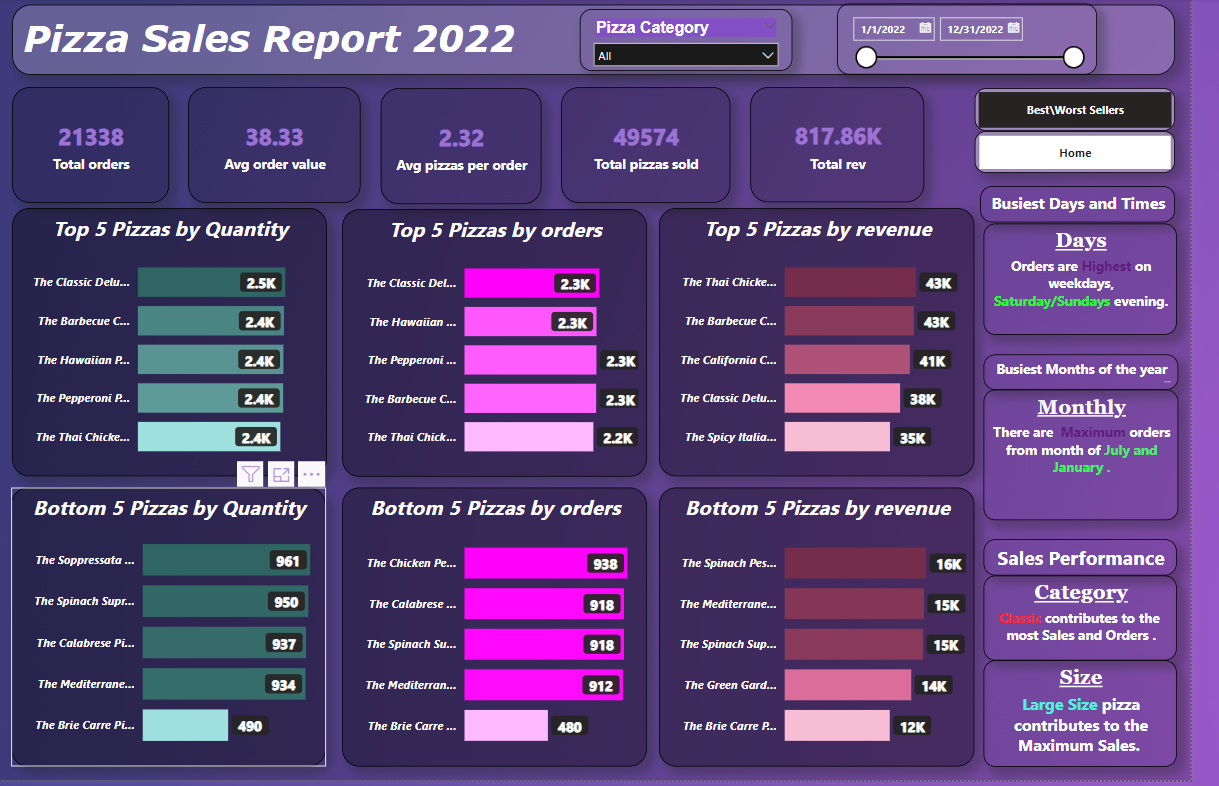

Layout of this report page (visuals, bound fields, positions):
{"tool":"powerbi","page":{"name":"Best\\Worst Sellers","canvas":[1400,920],"ordinal":1},"visuals":[{"type":"card","fields":{"Values":["pizza_sales_excel_file.avg pizzas per order"]},"box":[448.6,106.4,188.8,136.2],"z":0},{"type":"card","fields":{"Values":["pizza_sales_excel_file.total orders"]},"box":[14.9,105.3,184.3,136.2],"z":1000},{"type":"card","fields":{"Values":["pizza_sales_excel_file.Total rev"]},"box":[883.6,105.3,204.9,135.1],"z":2000},{"type":"card","fields":{"Values":["pizza_sales_excel_file.total pizzas sold"]},"box":[661.5,104.2,199.1,136.2],"z":3000},{"type":"card","fields":{"Values":["pizza_sales_excel_file.Avg order value"]},"box":[222,105.3,202.6,136.2],"z":4000},{"type":"textbox","box":[15.5,7.8,1367.3,82.8],"z":5000},{"type":"textbox","title":"Busiest Days and Times","box":[1153.9,221.2,229,42.7],"z":6000},{"type":"textbox","title":"Days ","box":[1157.7,265.2,227.7,130.6],"z":7000},{"type":"textbox","title":"Monthly","box":[1157.7,460.5,229,153.9],"z":8000},{"type":"textbox","title":"Busiest Months of the year","box":[1157.7,419.1,229,41.4],"z":9000},{"type":"textbox","title":"Sales Performance","box":[1157.7,636.4,227.7,42.7],"z":10000},{"type":"textbox","title":"Category","box":[1157.7,679.1,227.7,99.6],"z":11000},{"type":"textbox","title":"Size","box":[1157.7,778.7,227.7,125.5],"z":12000},{"type":"slicer","fields":{"Values":["pizza_sales_excel_file.pizza_category"]},"box":[682.9,12.7,249.9,72.5],"z":13000},{"type":"slicer","fields":{"Values":["pizza_sales_excel_file.order_date"]},"box":[985.7,6.5,305.3,84.1],"z":14000},{"type":"barChart","title":"Top 5 Pizzas by revenue","fields":{"Y":["pizza_sales_excel_file.Total rev"],"Category":["pizza_sales_excel_file.pizza_name"]},"box":[776.1,247.1,371.3,315.6],"z":15000},{"type":"barChart","title":"Bottom 5 Pizzas by revenue","fields":{"Y":["pizza_sales_excel_file.Total rev"],"Category":["pizza_sales_excel_file.pizza_name"]},"box":[776.1,575.6,371.3,328.6],"z":16000},{"type":"barChart","title":"Top 5 Pizzas by Quantity","fields":{"Category":["pizza_sales_excel_file.pizza_name"],"Y":["pizza_sales_excel_file.total pizzas sold"]},"box":[15.5,247.1,370,315.6],"z":17000},{"type":"barChart","title":"Bottom 5 Pizzas by Quantity","fields":{"Category":["pizza_sales_excel_file.pizza_name"],"Y":["pizza_sales_excel_file.total pizzas sold"]},"box":[14.2,575.6,370,328.6],"z":18000},{"type":"barChart","title":"Bottom  5 Pizzas by orders","fields":{"Category":["pizza_sales_excel_file.pizza_name"],"Y":["pizza_sales_excel_file.total orders"]},"box":[403.6,575.6,358.3,328.6],"z":19000},{"type":"barChart","title":"Top 5 Pizzas by orders","fields":{"Category":["pizza_sales_excel_file.pizza_name"],"Y":["pizza_sales_excel_file.total orders"]},"box":[403.6,248.4,358.3,314.3],"z":20000},{"type":"pageNavigator","box":[1147.4,106.1,235.4,50.4],"z":20001},{"type":"pageNavigator","box":[1147.4,156.5,235.4,49.2],"z":20002}]}

Visuals, with their boxes in screenshot pixels (x1, y1, x2, y2), scaled from the page's 1400x920 canvas onto the 1219x786 screenshot:
card - pizza_sales_excel_file.avg pizzas per order: <box>391,91,555,207</box>
card - pizza_sales_excel_file.total orders: <box>13,90,173,206</box>
card - pizza_sales_excel_file.Total rev: <box>769,90,948,205</box>
card - pizza_sales_excel_file.total pizzas sold: <box>576,89,749,205</box>
card - pizza_sales_excel_file.Avg order value: <box>193,90,370,206</box>
textbox: <box>13,7,1204,77</box>
"Busiest Days and Times" textbox: <box>1005,189,1204,225</box>
"Days " textbox: <box>1008,227,1206,338</box>
"Monthly" textbox: <box>1008,393,1207,525</box>
"Busiest Months of the year" textbox: <box>1008,358,1207,393</box>
"Sales Performance" textbox: <box>1008,544,1206,580</box>
"Category" textbox: <box>1008,580,1206,665</box>
"Size" textbox: <box>1008,665,1206,773</box>
slicer - pizza_sales_excel_file.pizza_category: <box>595,11,812,73</box>
slicer - pizza_sales_excel_file.order_date: <box>858,6,1124,77</box>
"Top 5 Pizzas by revenue" barChart: <box>676,211,999,481</box>
"Bottom 5 Pizzas by revenue" barChart: <box>676,492,999,773</box>
"Top 5 Pizzas by Quantity" barChart: <box>13,211,336,481</box>
"Bottom 5 Pizzas by Quantity" barChart: <box>12,492,335,773</box>
"Bottom  5 Pizzas by orders" barChart: <box>351,492,663,773</box>
"Top 5 Pizzas by orders" barChart: <box>351,212,663,481</box>
pageNavigator: <box>999,91,1204,134</box>
pageNavigator: <box>999,134,1204,176</box>
